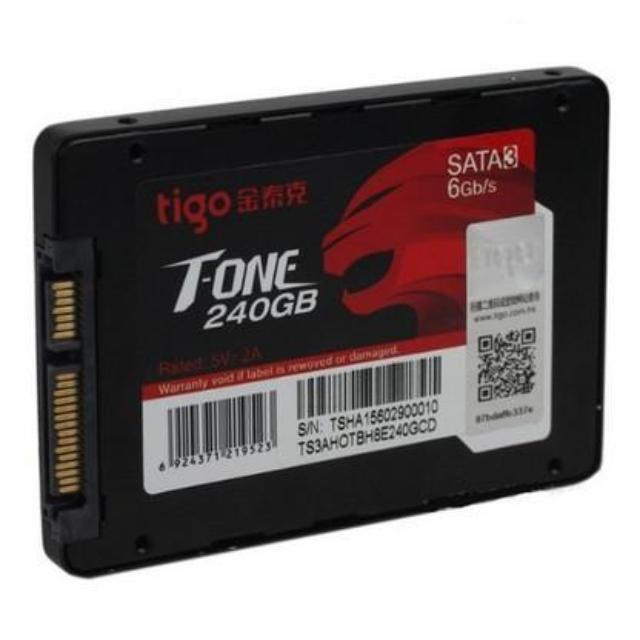DISK: (21, 47, 614, 585)
